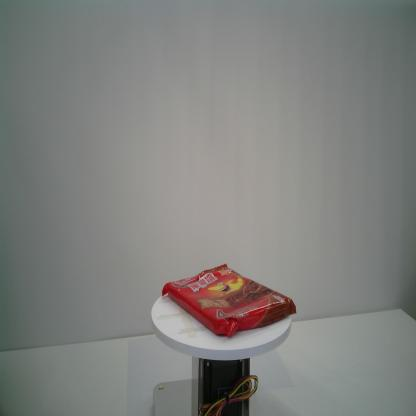Dessert: (162, 263, 297, 337)
